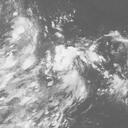cyclone: (37, 40, 86, 92)
